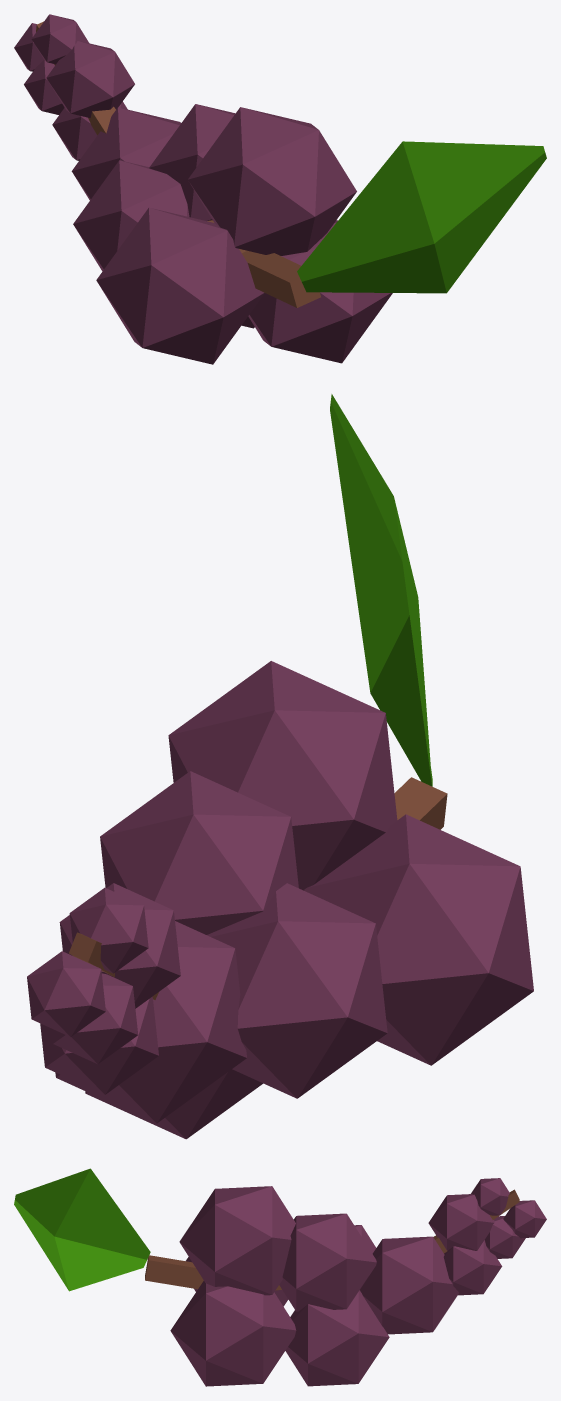
The model's file is Grape.fbx.
3 views of the same model, one above another, from view 1: azimuth 30°, elevation 25°; view 2: azimuth 150°, elevation 25°; view 3: azimuth 270°, elevation 25° (orthographic). The views are drawn at different scales.
Parts seen in each view (by area): view 1: Grape; view 2: Grape; view 3: Grape.
Boxes of the visible parts, x1,y1,x2,y2 form: Grape: (14,14,546,364); Grape: (27,394,533,1139); Grape: (14,1168,546,1386).
Bounding box in the file's own units: 41.14 × 42.57 × 90.69.
